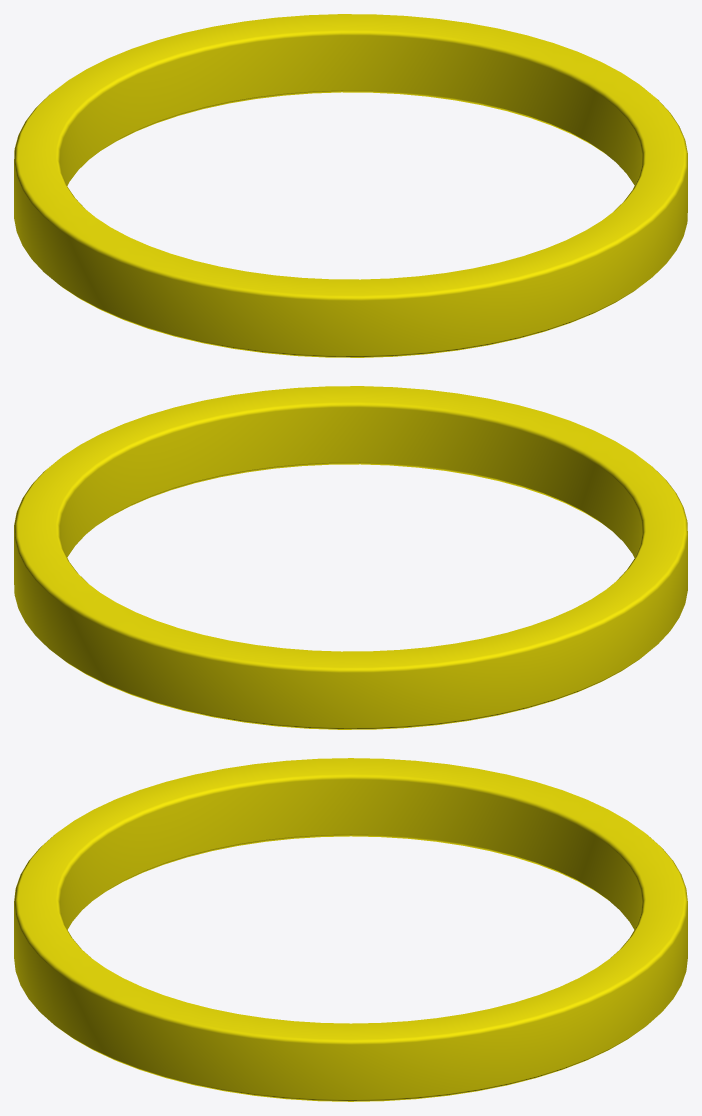
The picture shows the model from 3 angles, top to bottom: view 1: azimuth 30°, elevation 25°; view 2: azimuth 150°, elevation 25°; view 3: azimuth 270°, elevation 25°; orthographic projection.
Visible parts, largest first — view 1: seal_body; view 2: seal_body; view 3: seal_body.
Boxes of the visible parts, box(x1,y1,x2,y2) form: seal_body: box(14, 14, 687, 357); seal_body: box(14, 386, 687, 729); seal_body: box(14, 758, 687, 1101).
Size of the model in its own units: 0.1397 by 0.0143 by 0.1397.
